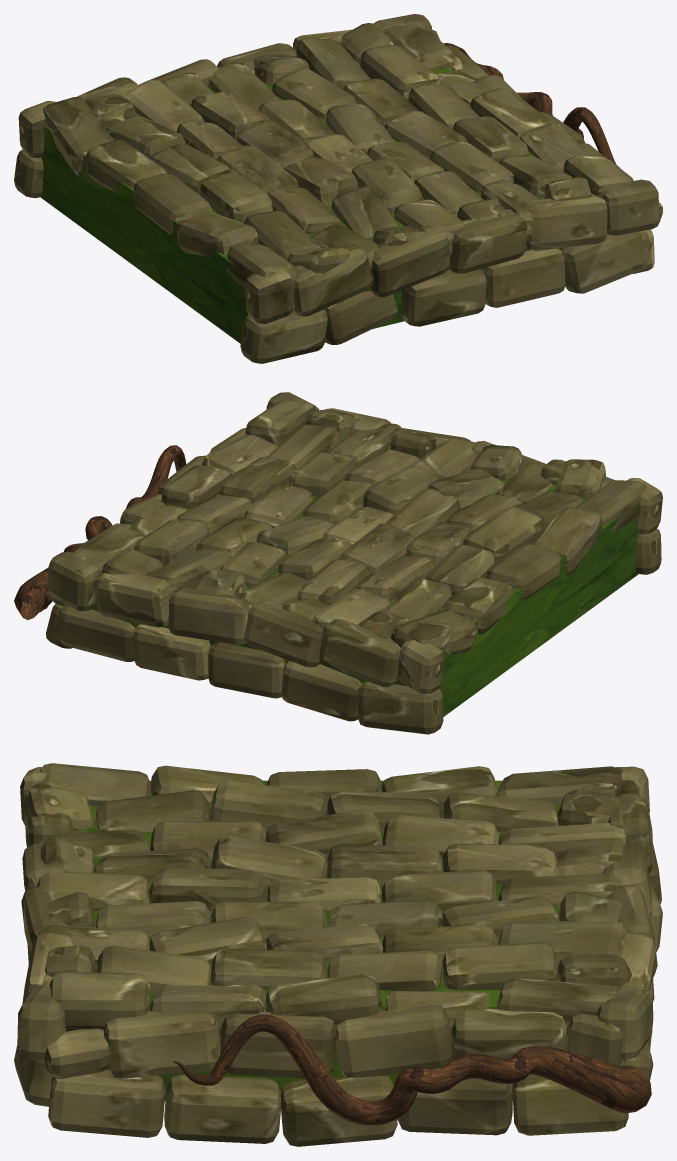
File: plataforma pequena.fbx
3 views of the same model, one above another, from view 1: azimuth 30°, elevation 25°; view 2: azimuth 150°, elevation 25°; view 3: azimuth 270°, elevation 25° (orthographic). The views are drawn at different scales.
Parts seen in each view (by area): view 1: tijolos.004, tijolos.003, Cube.001, galhos.001; view 2: tijolos.004, tijolos.003, Cube.001, galhos.001; view 3: tijolos.004, tijolos.003, galhos.001, Cube.001.
Part boxes in pixels (box(x1,y1,x2,y2)): tijolos.004: box(43, 21, 633, 298); tijolos.003: box(14, 14, 662, 363); Cube.001: box(40, 65, 563, 343); galhos.001: box(443, 43, 619, 167); tijolos.004: box(72, 400, 646, 654); tijolos.003: box(46, 392, 662, 734); Cube.001: box(91, 438, 638, 716); galhos.001: box(14, 445, 186, 620); tijolos.004: box(27, 763, 631, 1040); tijolos.003: box(14, 766, 662, 1146); galhos.001: box(172, 1014, 651, 1125); Cube.001: box(74, 780, 567, 1101).
Size of the model in its own units: 1270 by 308 by 1246.
3 materials, 3 textured.
